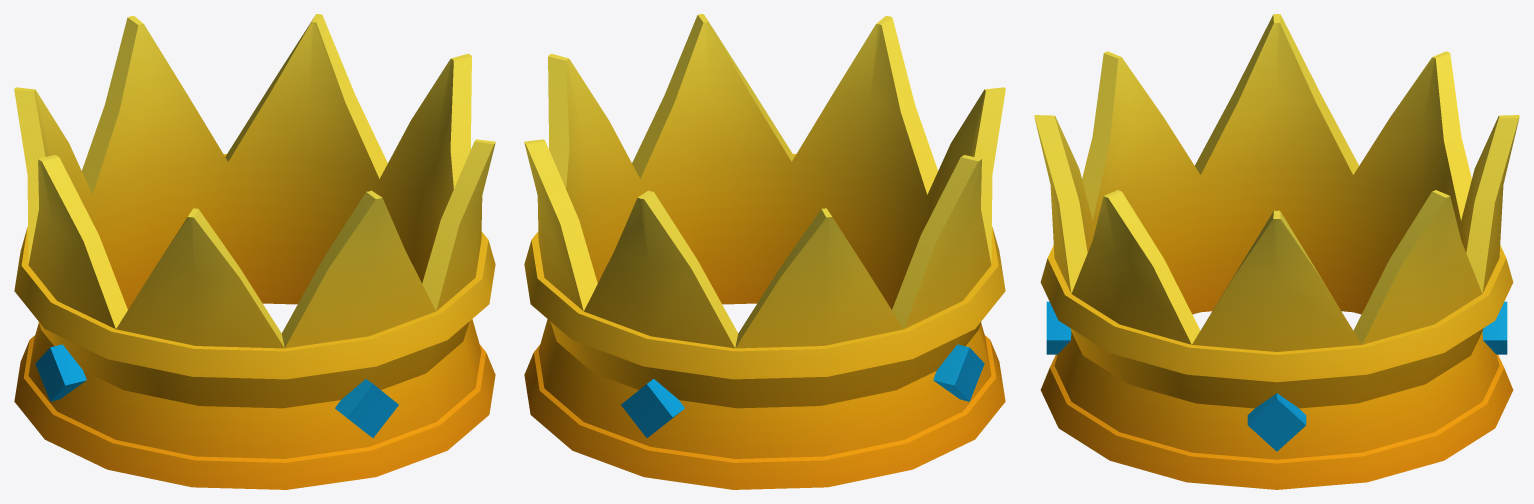
Rendered from Crown.fbx.
3 renders of one model, left to right at view 1: azimuth 30°, elevation 25°; view 2: azimuth 150°, elevation 25°; view 3: azimuth 270°, elevation 25°, orthographic. The views are drawn at different scales.
Parts seen in each view (by area): view 1: Crown, Gem; view 2: Crown, Gem; view 3: Crown, Gem.
Part boxes in pixels (<box>): Crown: <box>14,14,495,489</box>; Gem: <box>35,344,398,437</box>; Crown: <box>524,14,1005,489</box>; Gem: <box>621,344,984,437</box>; Crown: <box>1034,14,1519,489</box>; Gem: <box>1046,301,1507,451</box>.
Bounding box in the file's own units: 290 × 180 × 290.
